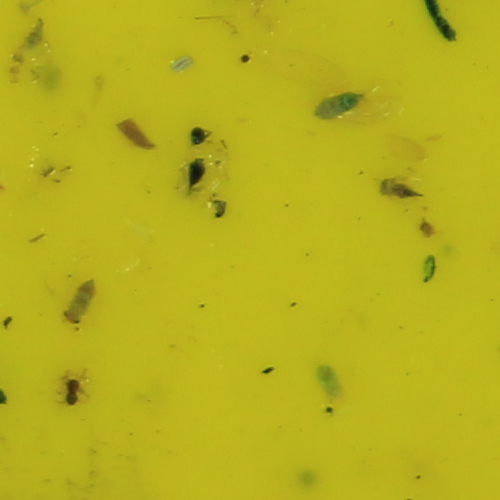Glycaspis: (310, 86, 368, 127)
